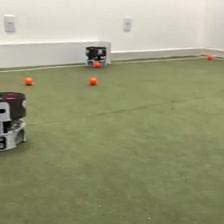ball: (23, 76, 33, 87), (89, 76, 97, 86), (206, 52, 214, 61), (93, 60, 101, 67)
goal: (1, 39, 113, 70)
robot: (1, 89, 29, 153), (84, 44, 109, 68)
